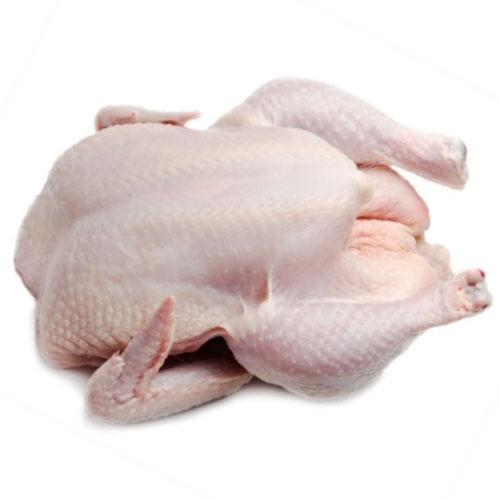chicken: (9, 59, 384, 330)
